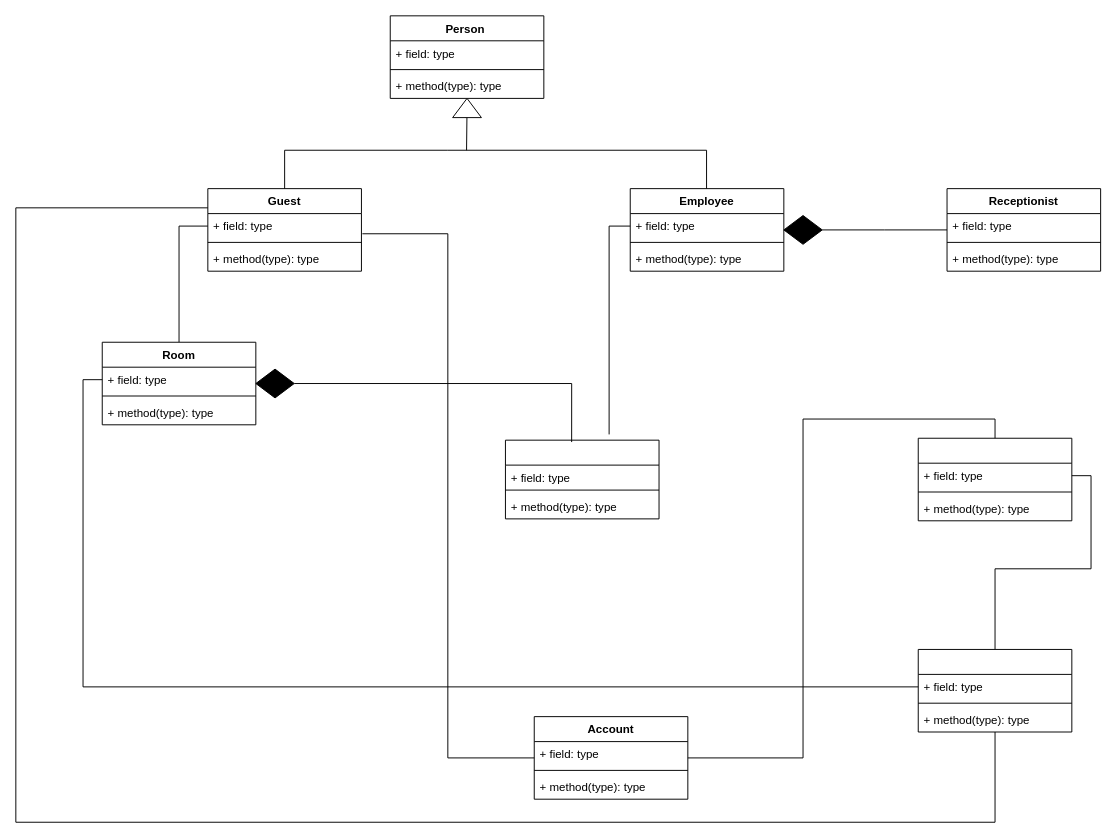
This 1116x838 diagram has some shape labels left out. The box of each missing label's shape, as (x1, y1, x2, y2) in pixels:
Booking: (917, 648, 1072, 732)
Hotel: (504, 439, 659, 519)
Payment: (917, 437, 1072, 521)
